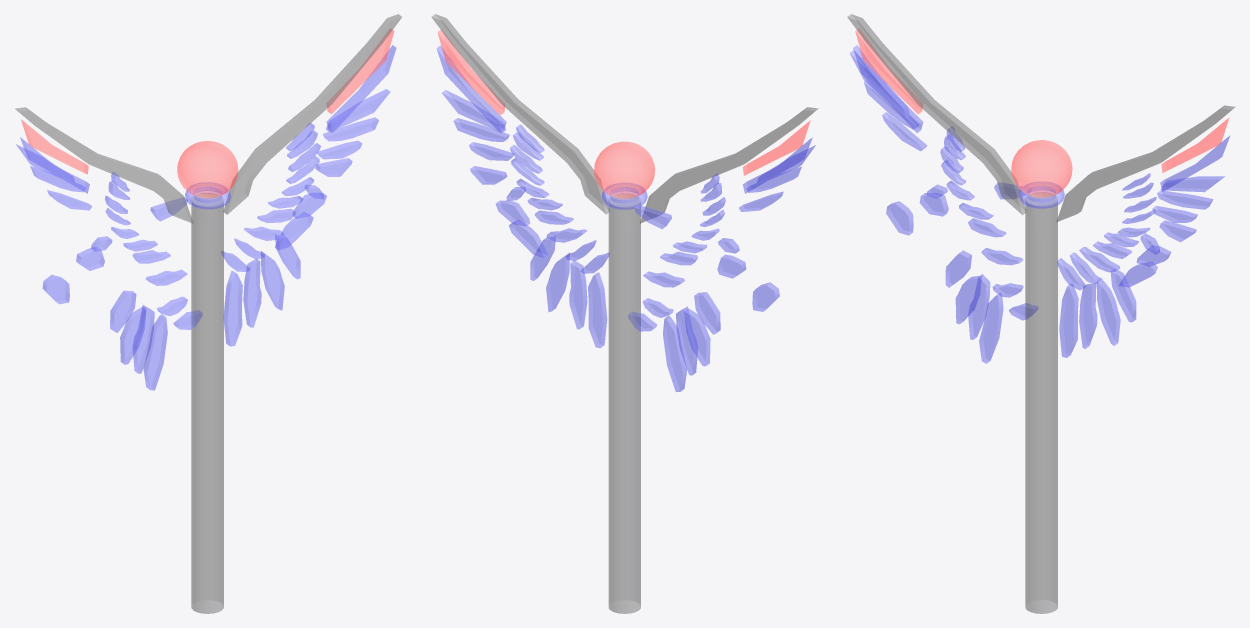
Rendered from scepter.FBX.
3 renders of one model, left to right at view 1: azimuth 30°, elevation 25°; view 2: azimuth 150°, elevation 25°; view 3: azimuth 330°, elevation 25°, orthographic.
Visible parts, largest first — view 1: Cylinder001, Plane003, Plane050, Plane004, Plane005, Plane043, Plane016, Plane015, Plane044, Plane048, Plane006, Plane047 (+10 smaller); view 2: Cylinder001, Plane003, Plane050, Plane004, Plane005, Plane043, Plane016, Plane015, Plane044, Plane048, Plane006, Plane047 (+10 smaller); view 3: Cylinder001, Plane050, Plane003, Plane047, Plane046, Plane016, Plane043, Plane014, Plane045, Plane015, Plane044, Plane004 (+11 smaller).
Boxes of the visible parts, x1,y1,x2,y2 form: Cylinder001: [177, 141, 238, 613]; Plane003: [223, 14, 401, 214]; Plane050: [15, 107, 193, 223]; Plane004: [326, 28, 394, 113]; Plane005: [326, 45, 396, 132]; Plane043: [143, 314, 167, 390]; Plane016: [224, 271, 242, 346]; Plane015: [243, 259, 261, 327]; Plane044: [133, 305, 154, 373]; Plane048: [120, 307, 146, 364]; Plane006: [326, 89, 390, 131]; Plane047: [21, 119, 88, 174]; Cylinder001: [594, 141, 654, 613]; Plane003: [431, 14, 609, 214]; Plane050: [640, 107, 818, 223]; Plane004: [437, 30, 504, 114]; Plane005: [436, 45, 506, 132]; Plane043: [663, 316, 687, 391]; Plane016: [588, 272, 607, 347]; Plane015: [569, 260, 587, 329]; Plane044: [676, 306, 697, 375]; Plane048: [684, 308, 710, 366]; Plane006: [442, 90, 505, 132]; Plane047: [742, 120, 810, 175]; Cylinder001: [1011, 140, 1072, 613]; Plane050: [847, 14, 1025, 214]; Plane003: [1056, 105, 1234, 221]; Plane047: [855, 28, 922, 114]; Plane046: [853, 45, 922, 132]; Plane016: [1059, 283, 1078, 357]; Plane043: [979, 293, 1003, 363]; Plane014: [1096, 277, 1120, 345]; Plane045: [850, 50, 909, 118]; Plane015: [1079, 283, 1097, 348]; Plane044: [968, 274, 990, 339]; Plane004: [1161, 118, 1228, 172].
Bounding box in the file's own units: 53.74 × 72.9 × 7.47.
